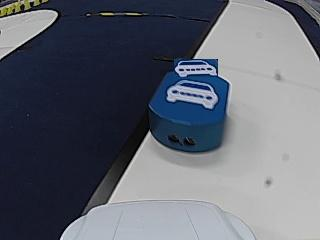safety: (165, 80, 219, 108)
